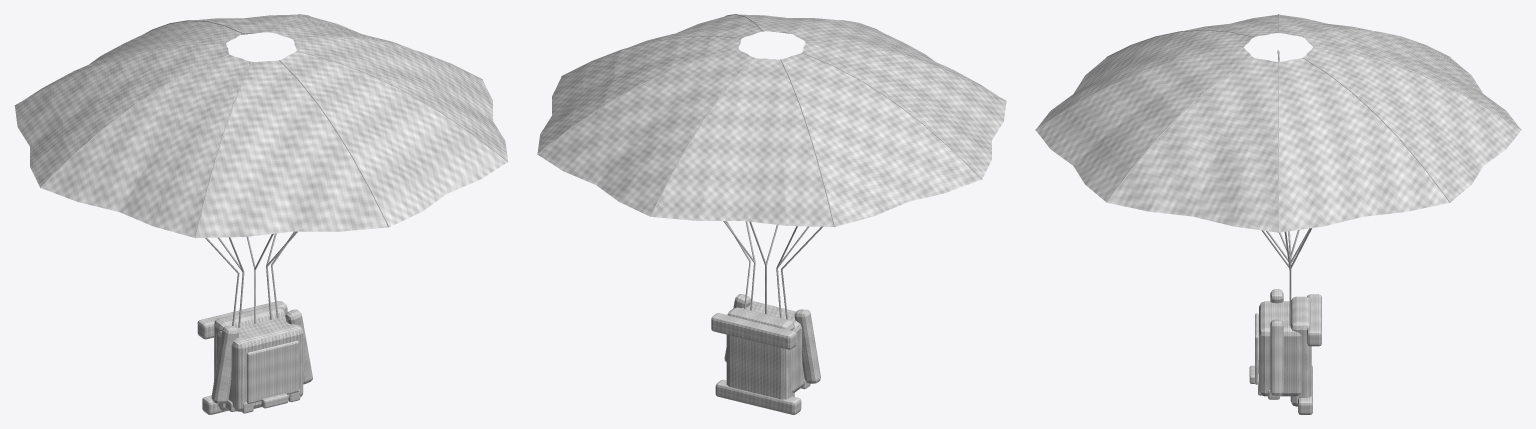
Rendered from parachute_variant_c.glb.
The picture shows the model from 3 angles, left to right: view 1: azimuth 30°, elevation 25°; view 2: azimuth 150°, elevation 25°; view 3: azimuth 270°, elevation 25°; orthographic projection. The views are drawn at different scales.
Parts seen in each view (by area): view 1: DEPLOYED_CANOPY_segmented, Canopy canister, Canister cover, Shoulder strap.004, Dorsal mounting plate.002, Upper harness yoke.002, Shoulder strap.005; view 2: DEPLOYED_CANOPY_segmented, Dorsal mounting plate.002, Upper harness yoke.002, Waist belt.002, Canopy canister, Shoulder strap.004; view 3: DEPLOYED_CANOPY_segmented, Canopy canister, Dorsal mounting plate.002, Shoulder strap.005, Upper harness yoke.002.
Boxes of the visible parts, x1=… form: DEPLOYED_CANOPY_segmented: x1=15, y1=14, x2=507, y2=237; Canopy canister: x1=216, y1=316, x2=303, y2=411; Canister cover: x1=246, y1=340, x2=298, y2=403; Shoulder strap.004: x1=211, y1=326, x2=239, y2=403; Dorsal mounting plate.002: x1=214, y1=305, x2=285, y2=410; Upper harness yoke.002: x1=197, y1=301, x2=287, y2=339; Shoulder strap.005: x1=285, y1=309, x2=312, y2=384; DEPLOYED_CANOPY_segmented: x1=537, y1=14, x2=1006, y2=226; Dorsal mounting plate.002: x1=726, y1=307, x2=794, y2=399; Upper harness yoke.002: x1=711, y1=313, x2=796, y2=349; Waist belt.002: x1=715, y1=379, x2=801, y2=414; Canopy canister: x1=741, y1=301, x2=804, y2=392; Shoulder strap.004: x1=794, y1=309, x2=820, y2=383; DEPLOYED_CANOPY_segmented: x1=1036, y1=14, x2=1520, y2=232; Canopy canister: x1=1259, y1=301, x2=1301, y2=396; Dorsal mounting plate.002: x1=1290, y1=296, x2=1311, y2=406; Shoulder strap.005: x1=1270, y1=319, x2=1283, y2=396; Upper harness yoke.002: x1=1307, y1=294, x2=1321, y2=346.
Size of what is drawn, in the model's own units: 3.24 by 2.57 by 3.24.
8 materials, 8 textured.
